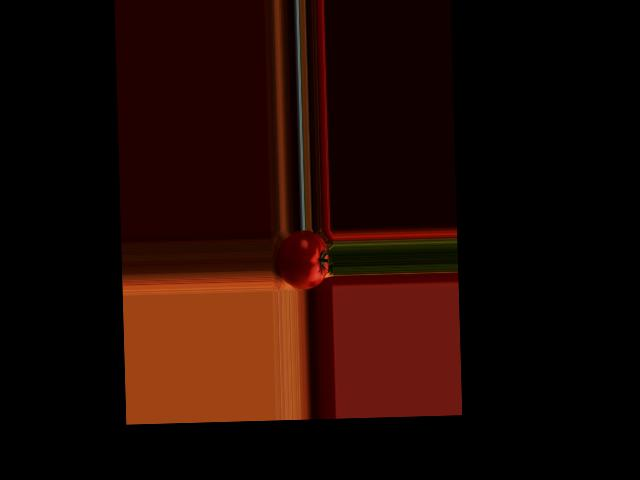tomato: (276, 230, 329, 290)
